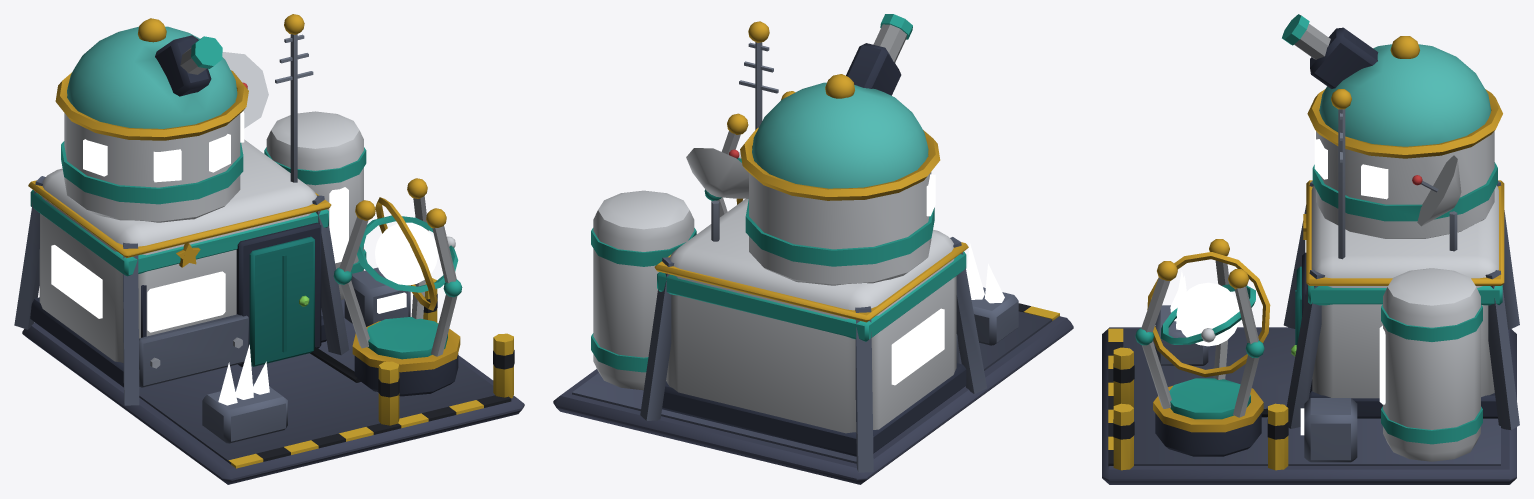
Rendered from o_special_krater.glb.
3 views of the same model, side by side, from view 1: azimuth 30°, elevation 25°; view 2: azimuth 150°, elevation 25°; view 3: azimuth 270°, elevation 25° (orthographic). The views are drawn at different scales.
Parts seen in each view (by area): view 1: body, lv3_upper, lv4_armor, lv5_gold, lv2_annex, win_glow, pulse_orb_glow, lv3_win_glow, lv2_win_glow, spin_dish, spin_ring, lv5_ring; view 2: body, lv3_upper, lv2_annex, lv4_armor, lv5_gold, win_glow, spin_dish; view 3: body, lv3_upper, lv2_annex, lv4_armor, lv5_gold, pulse_orb_glow, lv5_ring, spin_dish, lv3_win_glow, spin_ring, lv2_win_glow.
Part boxes in pixels (x1=…): body: x1=22, y1=139, x2=524, y2=484; lv3_upper: x1=61, y1=26, x2=243, y2=222; lv4_armor: x1=14, y1=34, x2=514, y2=425; lv5_gold: x1=28, y1=14, x2=460, y2=372; lv2_annex: x1=264, y1=111, x2=410, y2=326; win_glow: x1=51, y1=245, x2=269, y2=405; pulse_orb_glow: x1=375, y1=222, x2=437, y2=285; lv3_win_glow: x1=83, y1=111, x2=244, y2=182; lv2_win_glow: x1=329, y1=187, x2=406, y2=313; spin_dish: x1=222, y1=52, x2=268, y2=128; spin_ring: x1=357, y1=215, x2=458, y2=292; lv5_ring: x1=375, y1=197, x2=437, y2=310; body: x1=553, y1=131, x2=1073, y2=484; lv3_upper: x1=745, y1=14, x2=934, y2=285; lv2_annex: x1=591, y1=190, x2=696, y2=390; lv4_armor: x1=640, y1=42, x2=986, y2=472; lv5_gold: x1=654, y1=21, x2=968, y2=322; win_glow: x1=891, y1=242, x2=1004, y2=385; spin_dish: x1=686, y1=148, x2=748, y2=198; body: x1=1102, y1=185, x2=1516, y2=484; lv3_upper: x1=1282, y1=14, x2=1497, y2=238; lv2_annex: x1=1304, y1=268, x2=1482, y2=462; lv4_armor: x1=1113, y1=109, x2=1519, y2=470; lv5_gold: x1=1153, y1=36, x2=1504, y2=432; pulse_orb_glow: x1=1176, y1=282, x2=1239, y2=346; lv5_ring: x1=1147, y1=252, x2=1270, y2=377; spin_dish: x1=1412, y1=155, x2=1461, y2=226; lv3_win_glow: x1=1314, y1=129, x2=1388, y2=199; spin_ring: x1=1161, y1=284, x2=1255, y2=344; lv2_win_glow: x1=1300, y1=325, x2=1385, y2=435.
Bounding box in the file's own units: 3.38 × 3.76 × 3.93.
